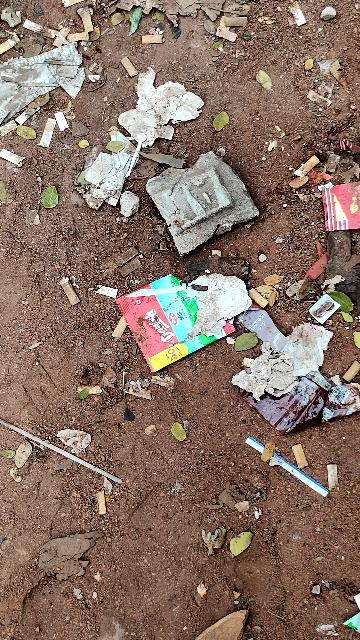packet: (113, 264, 238, 368), (243, 351, 353, 462), (327, 189, 359, 229)
